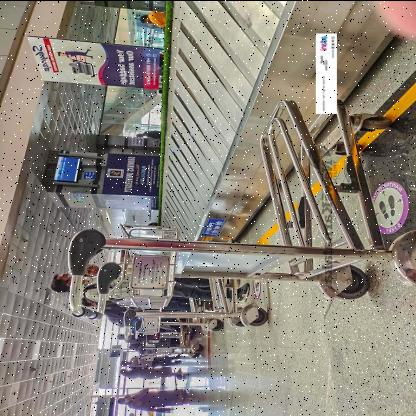airport-trolley: (56, 95, 416, 322), (124, 267, 268, 342)
